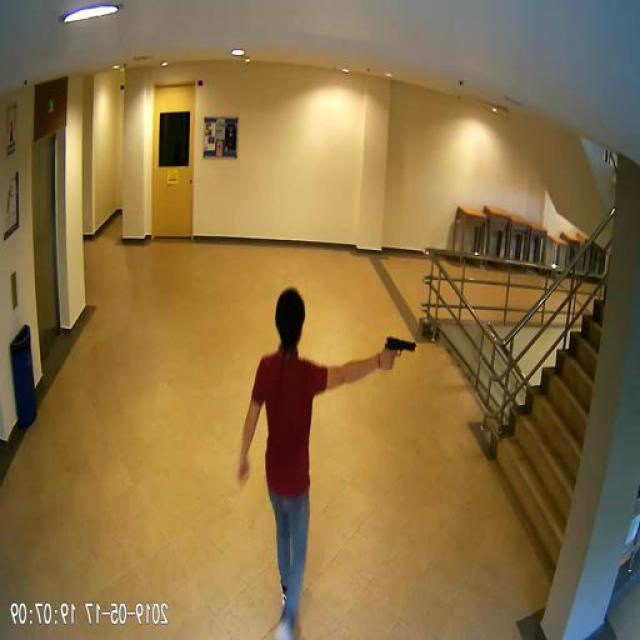Gun: (388, 332, 418, 368)
